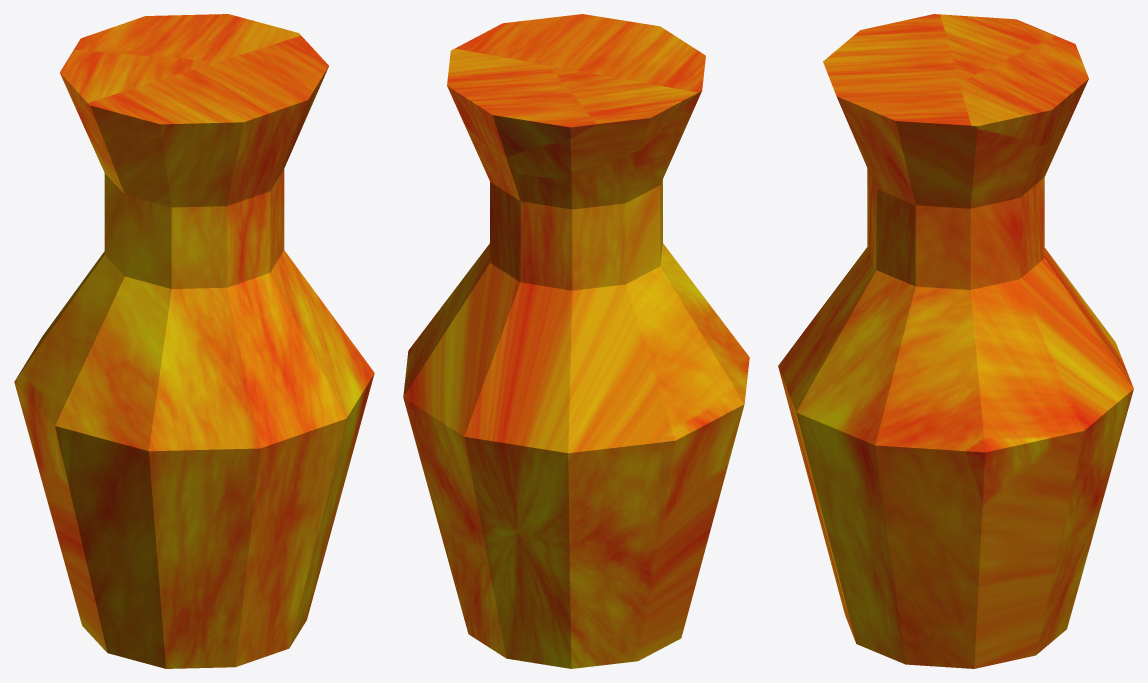
File: Stus.fbx
3 renders of one model, left to right at view 1: azimuth 30°, elevation 25°; view 2: azimuth 150°, elevation 25°; view 3: azimuth 270°, elevation 25°, orthographic.
Visible parts, largest first — view 1: root; view 2: root; view 3: root.
Part boxes in pixels (left/top/right/bottom): root: left=14, top=14, right=374, bottom=668; root: left=403, top=14, right=749, bottom=668; root: left=778, top=14, right=1133, bottom=668.
Size of the model in its own units: 0.2986 by 0.512 by 0.2992.
Materials: 1 (1 with a texture image).
